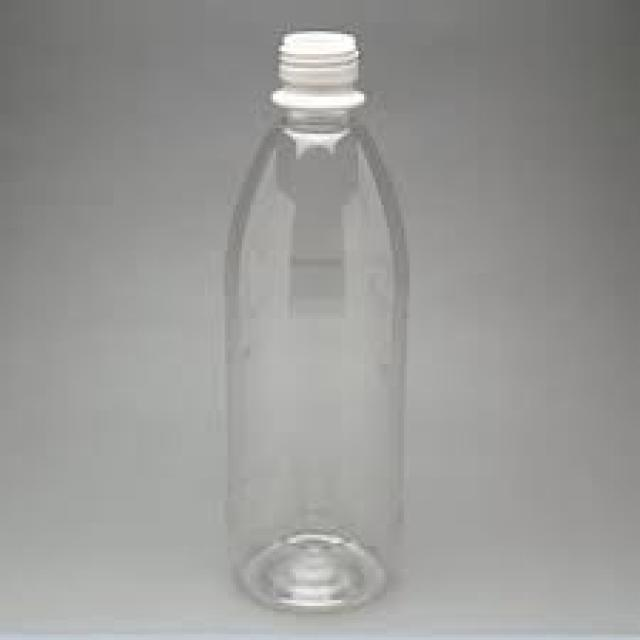Plastic: (221, 31, 408, 614)
